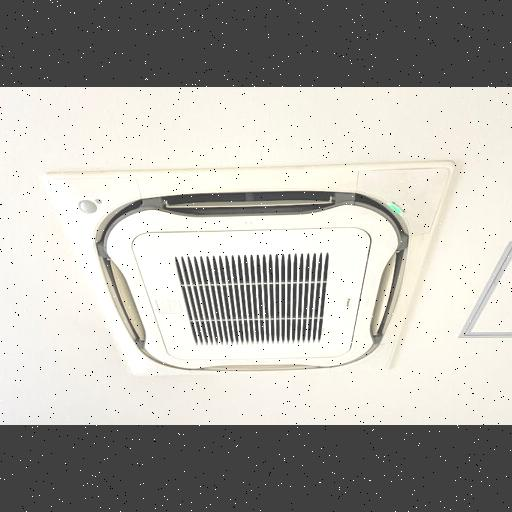4-way-ac: (42, 162, 452, 373)
